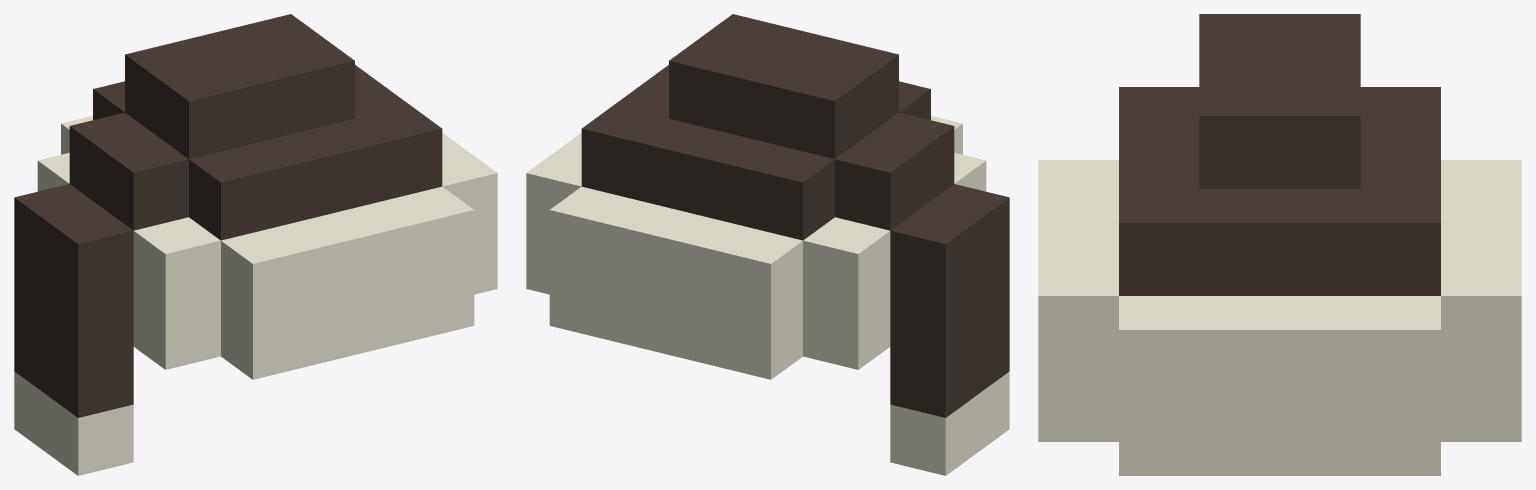
The model's file is char-76-helm_lgt_1c_ja_color.obj.
3 renders of one model, left to right at view 1: azimuth 30°, elevation 25°; view 2: azimuth 150°, elevation 25°; view 3: azimuth 270°, elevation 25°, orthographic. The views are drawn at different scales.
Parts seen in each view (by area): view 1: helm_lgt_1c_ja_color; view 2: helm_lgt_1c_ja_color; view 3: helm_lgt_1c_ja_color.
Boxes of the visible parts, x1,y1,x2,y2 form: helm_lgt_1c_ja_color: (14,14,497,475); helm_lgt_1c_ja_color: (526,14,1009,475); helm_lgt_1c_ja_color: (1038,14,1521,475).
Size of the model in its own units: 0.7 by 0.6 by 0.6.
1 material, 1 textured.
